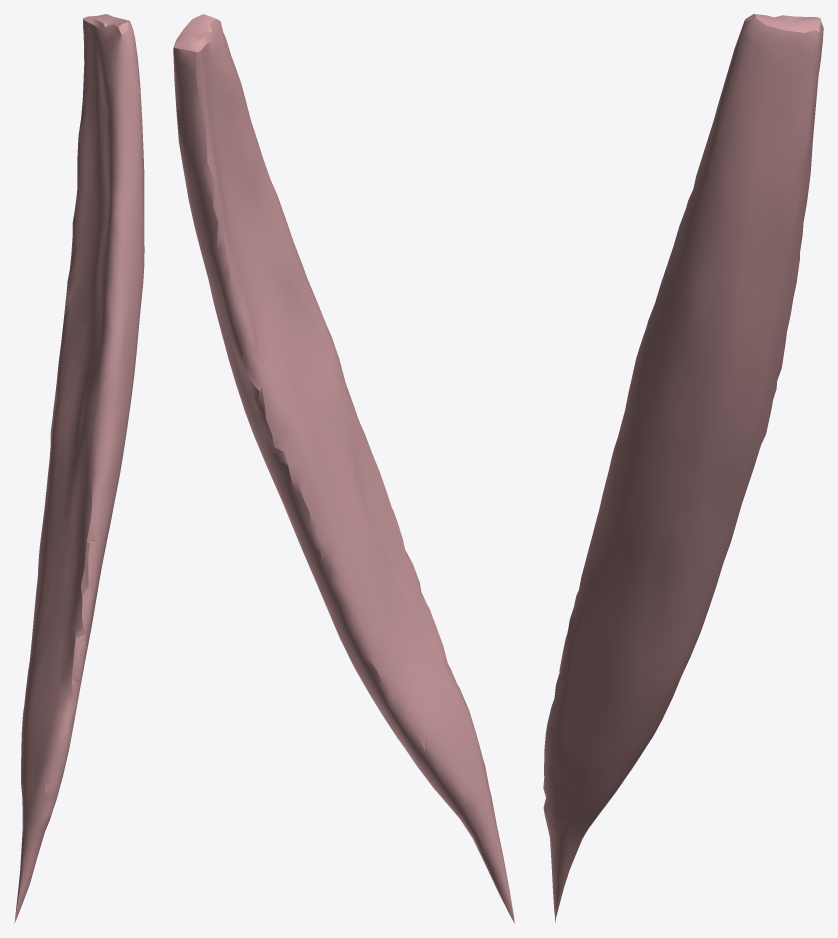
Rendered from fma65189_mm1859.glb.
The picture shows the model from 3 angles, left to right: view 1: azimuth 30°, elevation 25°; view 2: azimuth 150°, elevation 25°; view 3: azimuth 270°, elevation 25°; orthographic projection. The views are drawn at different scales.
Visible parts, largest first — view 1: FMA65189_MM1859; view 2: FMA65189_MM1859; view 3: FMA65189_MM1859.
Boxes of the visible parts, box(x1,y1,x2,y2) form: FMA65189_MM1859: box(14, 14, 144, 923); FMA65189_MM1859: box(173, 14, 514, 923); FMA65189_MM1859: box(543, 14, 823, 922).
Bounding box in the file's own units: 0.0471 × 0.1796 × 0.0445.
